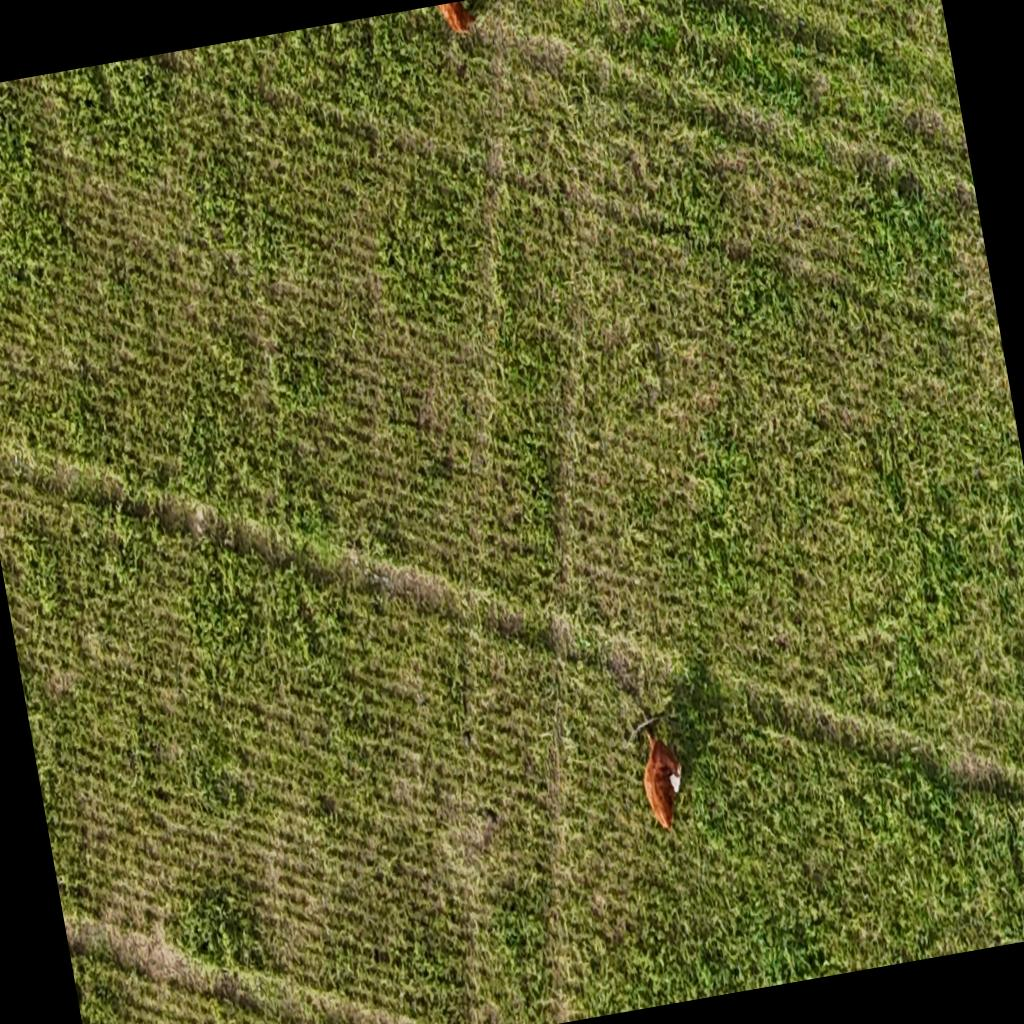cow: (628, 724, 699, 840)
